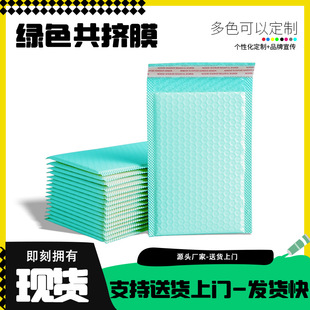塑料袋: (48, 63, 254, 241)
